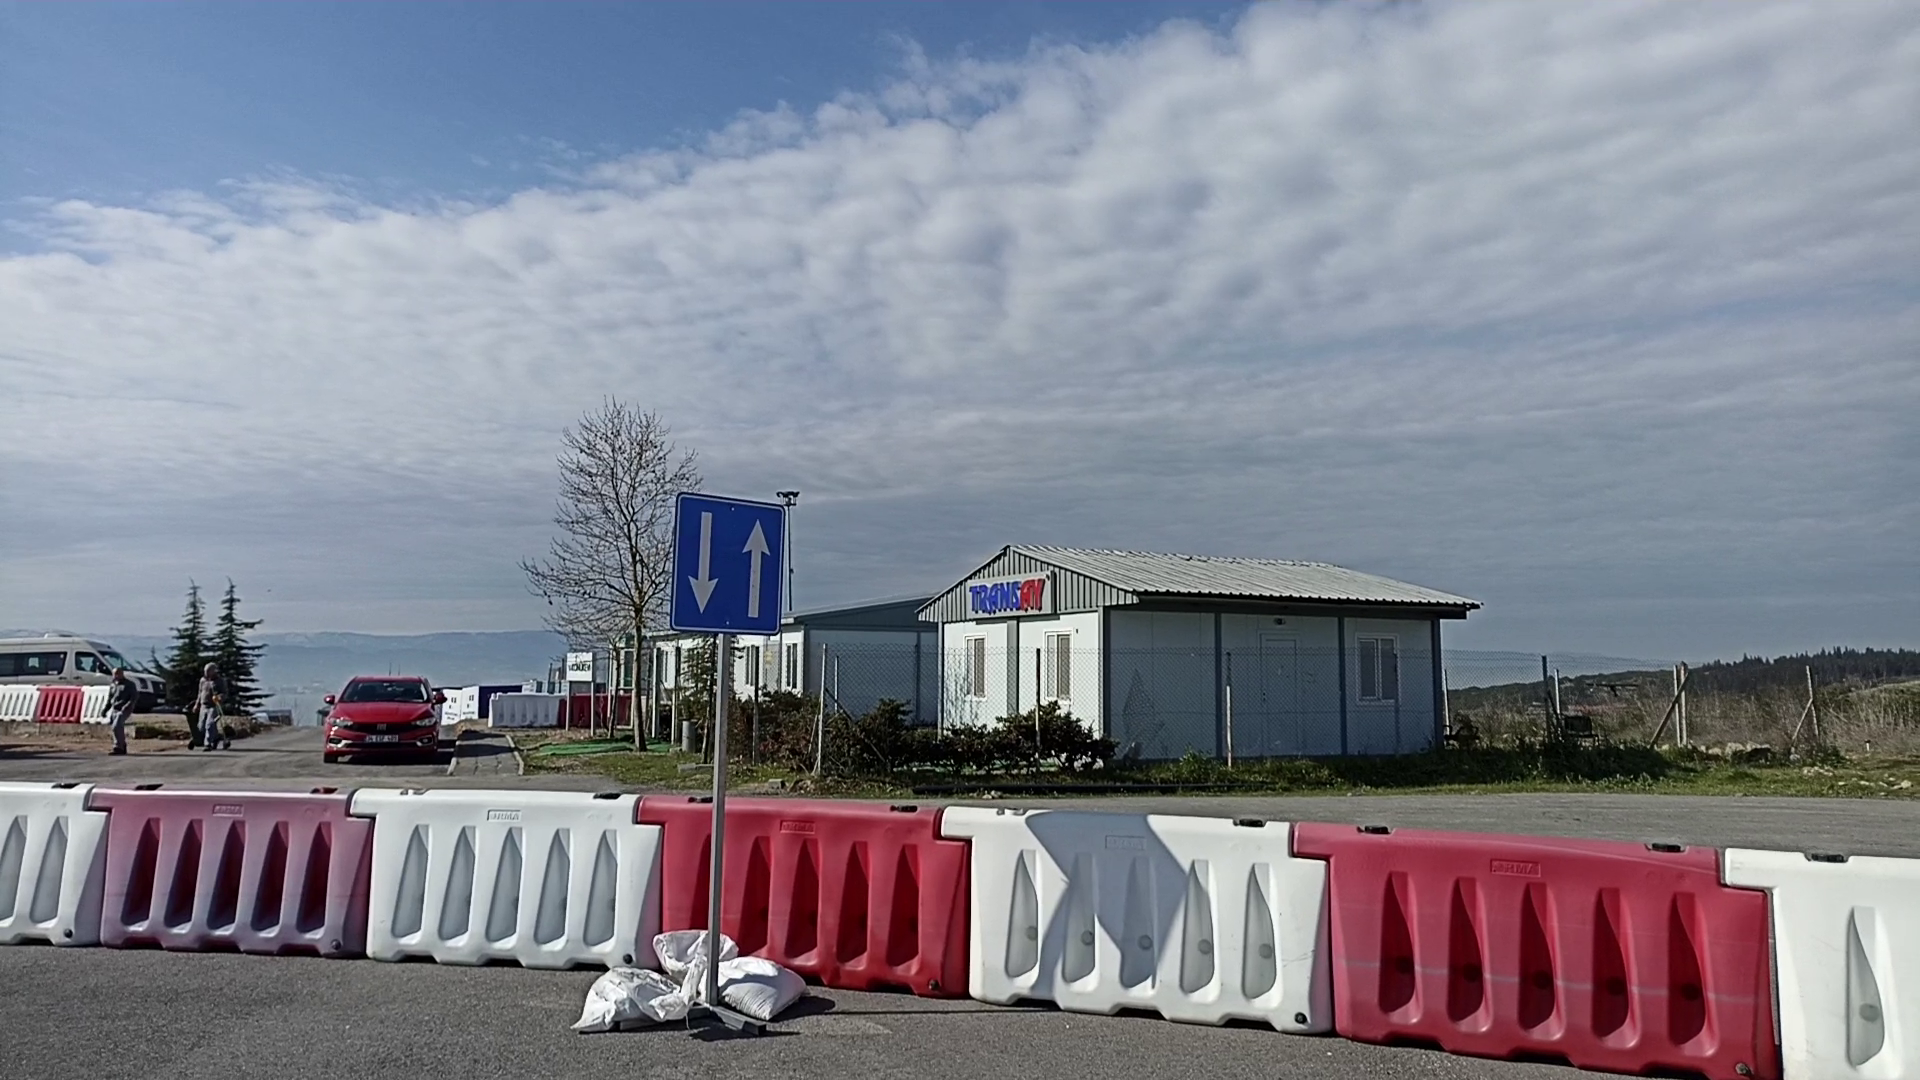oneway: (667, 489, 791, 638)
